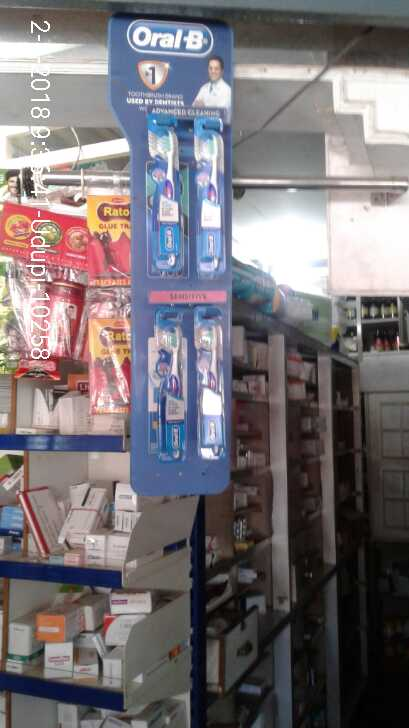oralb: (150, 300, 189, 457), (190, 116, 228, 272), (147, 121, 181, 267), (195, 301, 221, 462)
